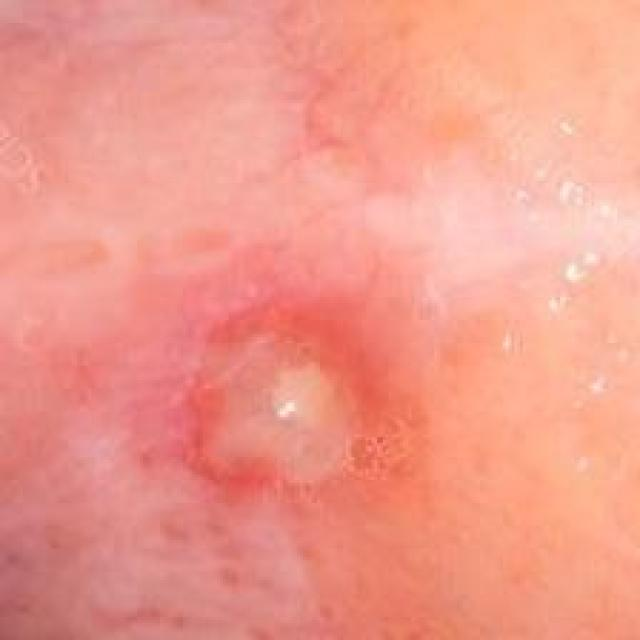others: (45, 110, 640, 631)
